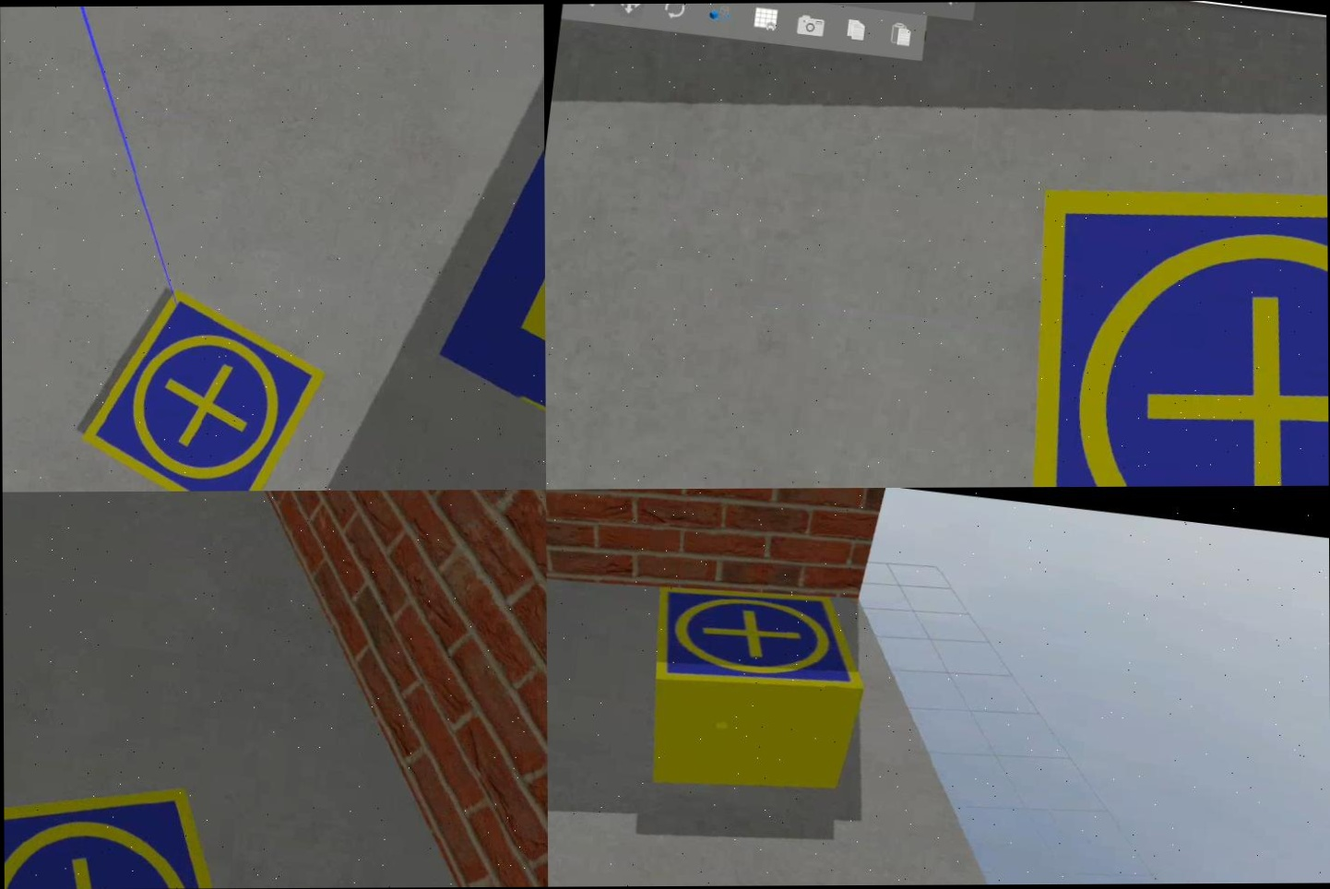large_base: (416, 5, 546, 490)
small_base: (991, 145, 1328, 487), (67, 282, 335, 492), (4, 755, 283, 889), (647, 577, 875, 710)
